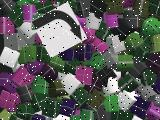Right: (31, 2, 87, 58)
